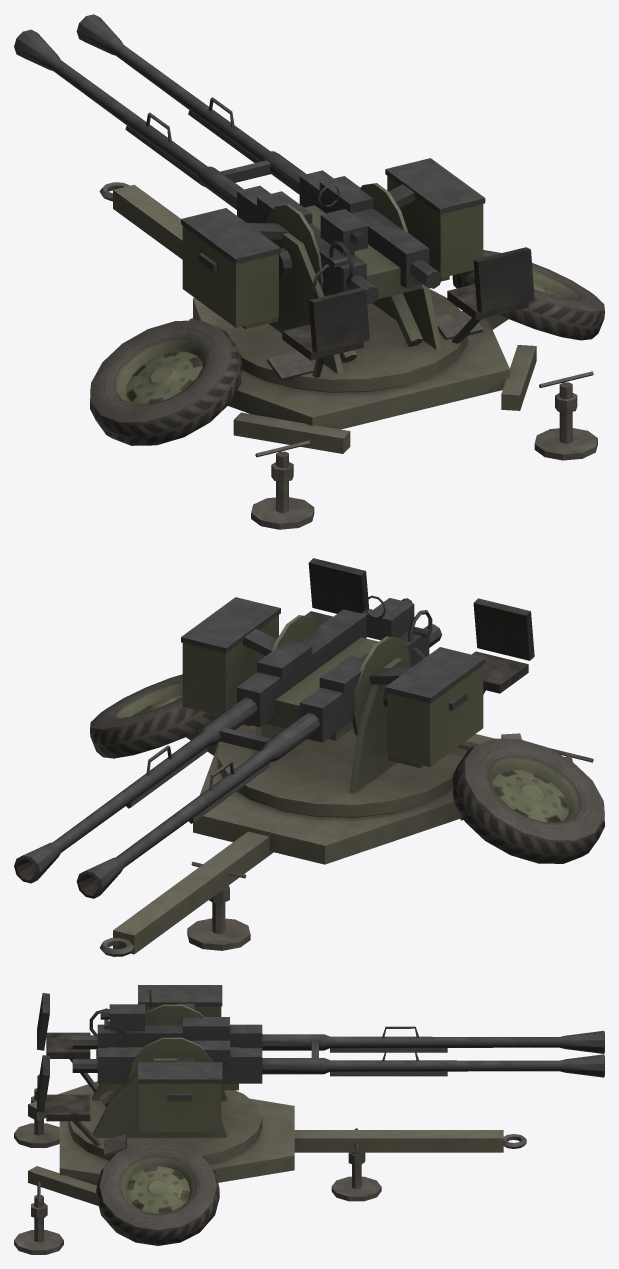
File: aaa_gun.glb
3 views of the same model, one above another, from view 1: azimuth 30°, elevation 25°; view 2: azimuth 150°, elevation 25°; view 3: azimuth 270°, elevation 25° (orthographic). The views are drawn at different scales.
Parts seen in each view (by area): view 1: turret, carriage, barrels; view 2: turret, carriage, barrels; view 3: carriage, turret, barrels.
Part boxes in pixels (bbox=[...]): turret: bbox=[181, 158, 534, 391]; carriage: bbox=[90, 182, 604, 529]; barrels: bbox=[14, 14, 441, 303]; turret: bbox=[181, 558, 534, 816]; carriage: bbox=[90, 674, 604, 956]; barrels: bbox=[14, 609, 441, 898]; carriage: bbox=[14, 1049, 526, 1254]; turret: bbox=[37, 985, 262, 1163]; barrels: bbox=[72, 1004, 604, 1090].
Bounding box in the file's own units: 3 × 1.44 × 4.02.
Materials: 1 (1 with a texture image).
